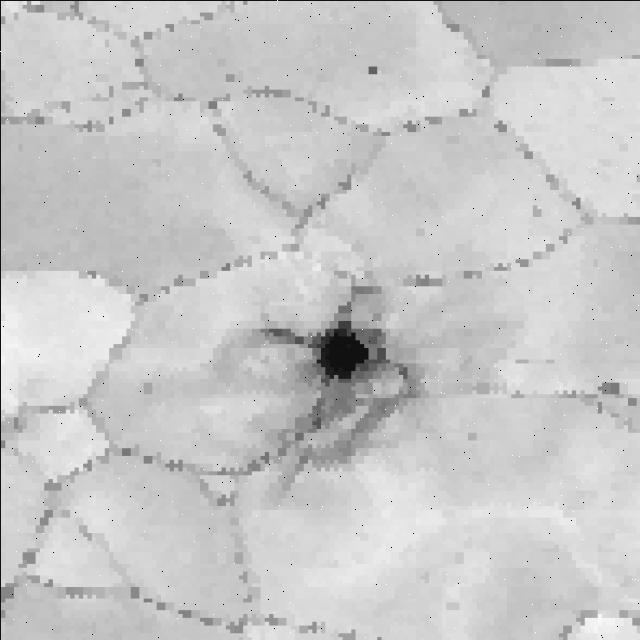good_void: (245, 263, 425, 505), (591, 376, 625, 400), (364, 62, 382, 80), (140, 377, 155, 398), (224, 71, 236, 86)
